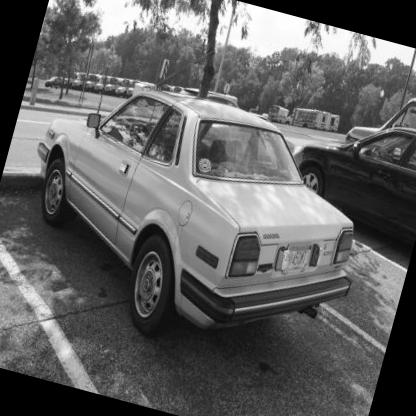car: (1, 34, 403, 414)
